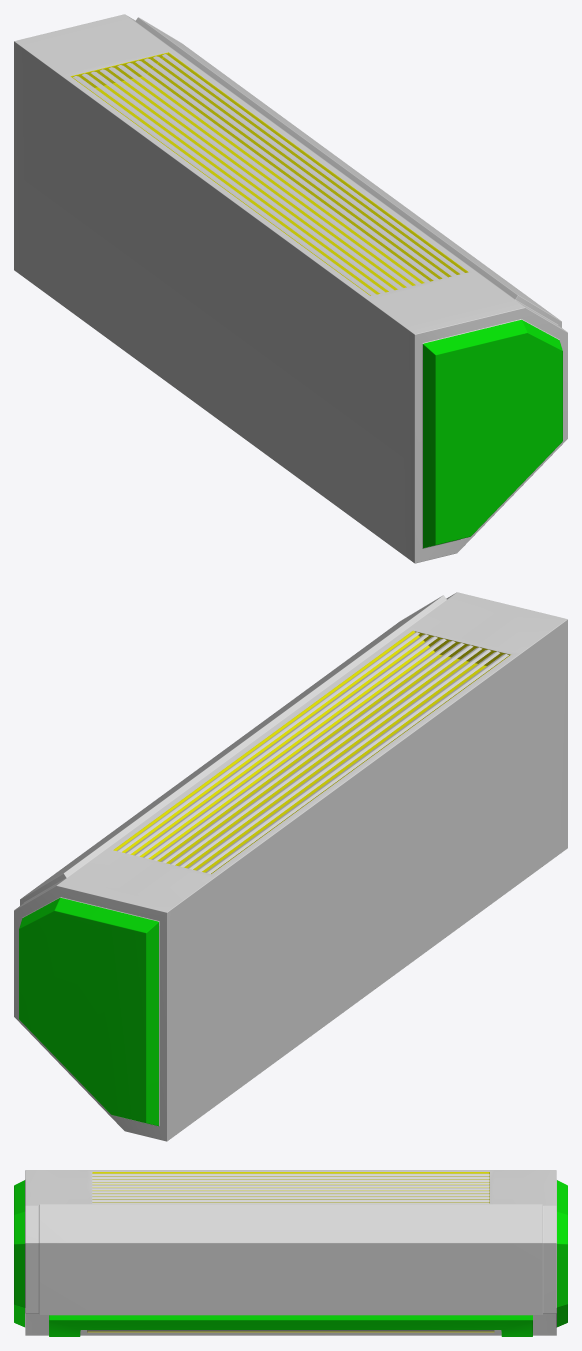
The model's file is SM_AirConditioner.fbx.
3 views of the same model, one above another, from view 1: azimuth 30°, elevation 25°; view 2: azimuth 150°, elevation 25°; view 3: azimuth 270°, elevation 25° (orthographic). The views are drawn at different scales.
Visible parts, largest first — view 1: Unit, ACVents.001; view 2: Unit, ACVents.001; view 3: Unit, ACVents.001, ACVents.
Boxes of the visible parts, <box> form: Unit: <box>14,14,567,563</box>; ACVents.001: <box>73,54,464,295</box>; Unit: <box>14,592,567,1141</box>; ACVents.001: <box>117,632,508,873</box>; Unit: <box>14,1170,567,1336</box>; ACVents.001: <box>92,1173,489,1203</box>; ACVents: <box>87,1330,494,1331</box>.
Size of the model in its own units: 34.29 by 157 by 48.24.
